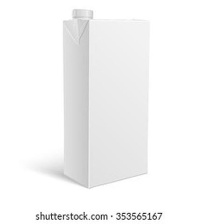carton: (53, 6, 158, 191)
